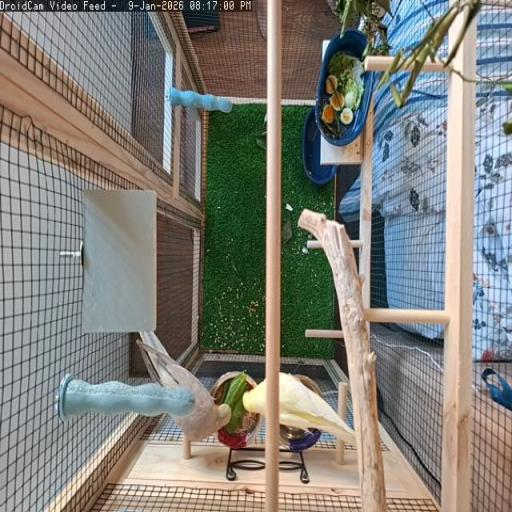bebedero: (280, 425, 321, 451), (296, 374, 322, 398)
comedero: (218, 407, 262, 449), (212, 372, 241, 402), (244, 377, 256, 390), (227, 470, 235, 479)
ninfa: (138, 332, 231, 441), (280, 372, 354, 439), (242, 380, 266, 414)
